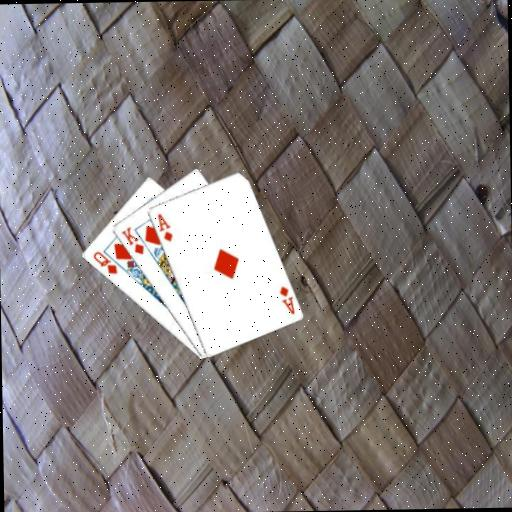AD: (276, 283, 297, 316), (154, 210, 174, 244)
KD: (118, 223, 145, 256)
QD: (90, 248, 119, 276)
